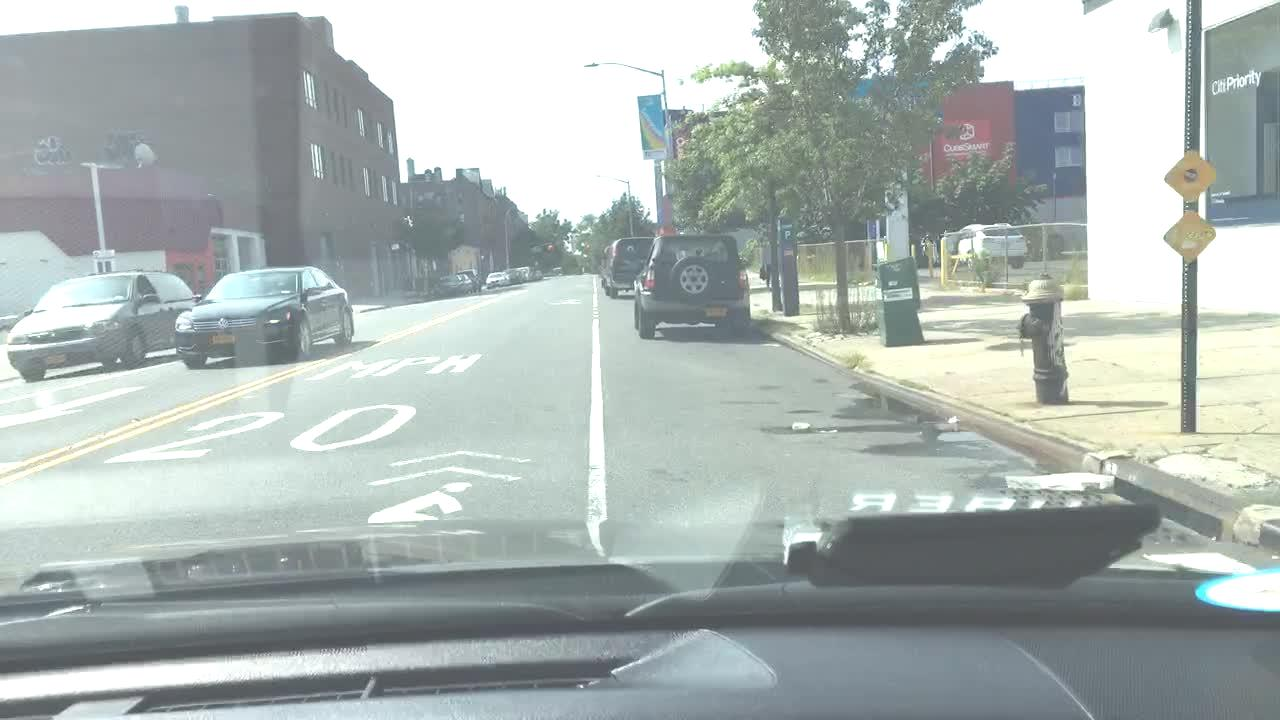Volkswagen: (214, 312, 231, 333)
